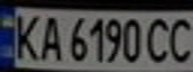0: (121, 15, 148, 64)
1: (84, 14, 106, 63)
6: (63, 14, 90, 63)
9: (103, 15, 127, 64)
A: (36, 12, 66, 62)
C: (142, 15, 175, 64), (163, 13, 193, 64)
K: (9, 10, 45, 62)
